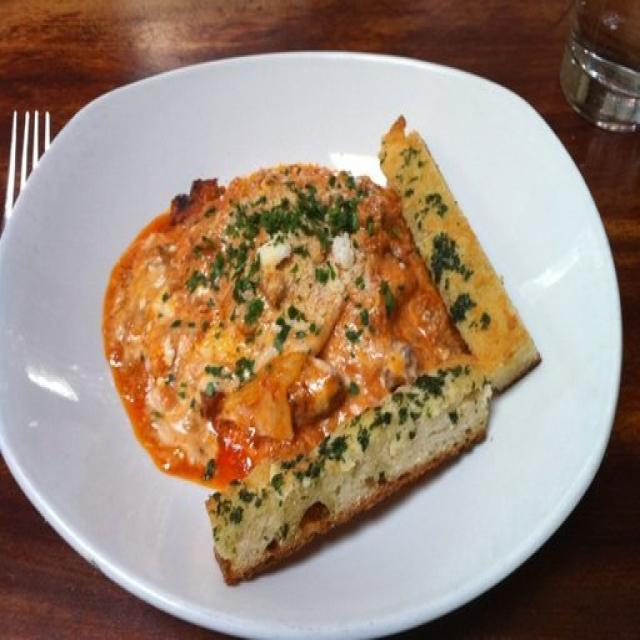Lasagna: (96, 166, 428, 430)
